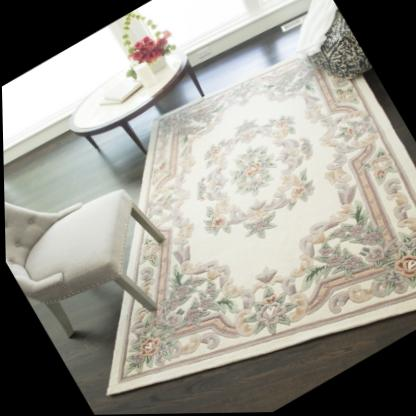Carpet: (108, 34, 416, 393)
